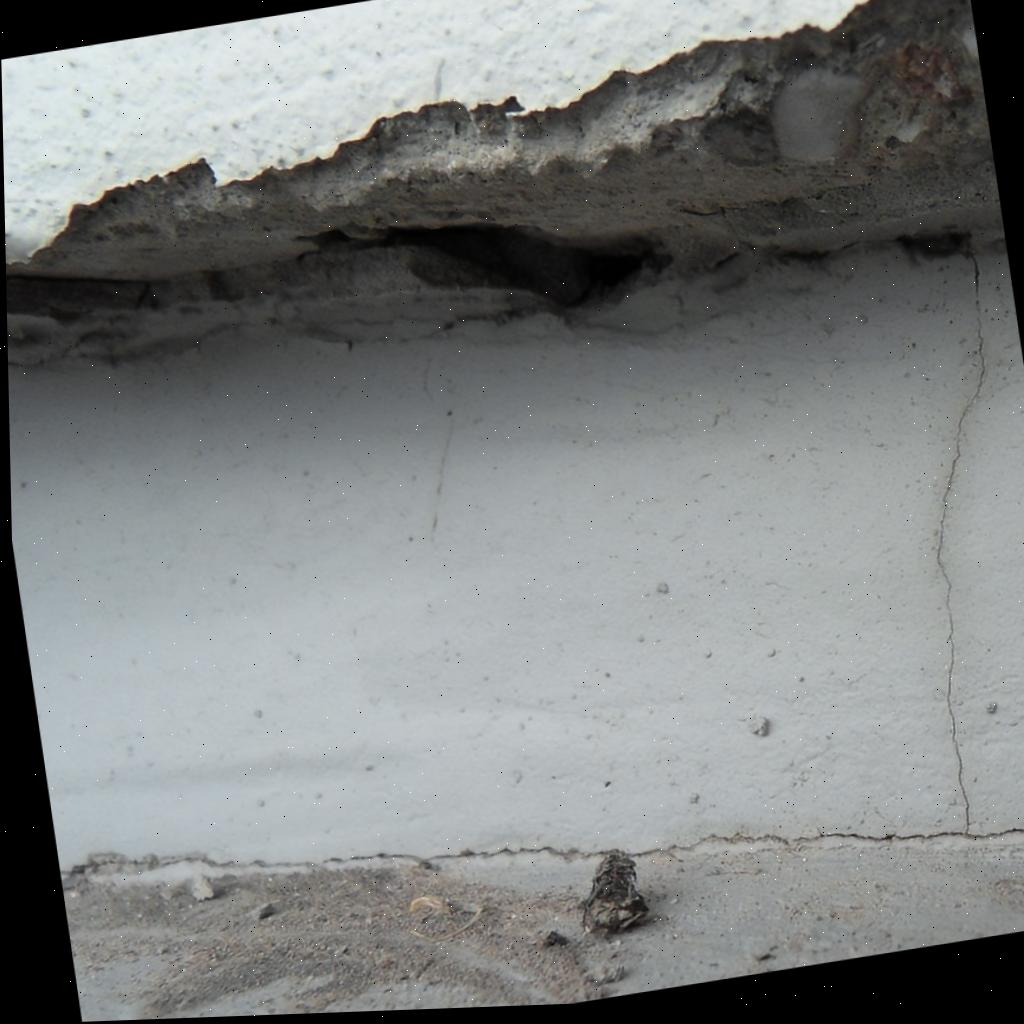spalling: (6, 0, 1005, 359)
